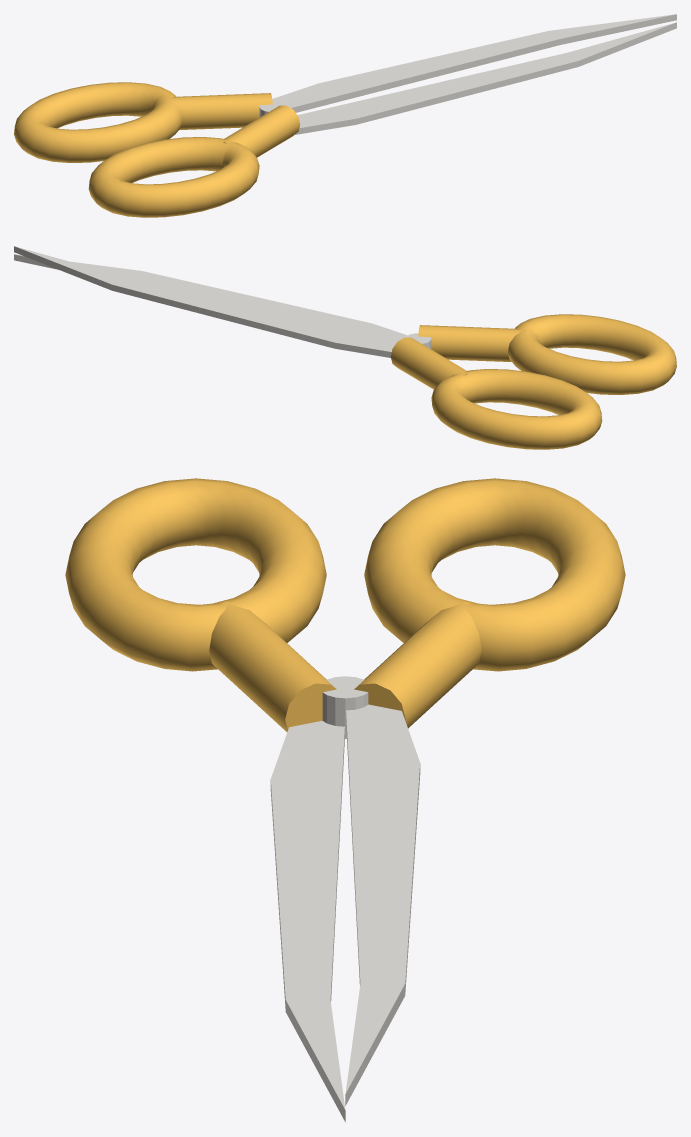
File: scissors.glb
3 renders of one model, top to bottom at view 1: azimuth 30°, elevation 25°; view 2: azimuth 150°, elevation 25°; view 3: azimuth 270°, elevation 25°, orthographic. The views are drawn at different scales.
Visible parts, largest first — view 1: ScissorUpper, ScissorLower; view 2: ScissorUpper, ScissorLower; view 3: ScissorLower, ScissorUpper, pivot.
Boxes of the visible parts, x1,y1,x2,y2 form: ScissorUpper: (14, 14, 676, 162); ScissorLower: (88, 22, 676, 217); ScissorUpper: (14, 246, 602, 449); ScissorLower: (14, 254, 676, 394); ScissorLower: (65, 478, 345, 1122); ScissorUpper: (345, 478, 625, 1105); pivot: (322, 676, 368, 738).
Bounding box in the file's own units: 1.92 × 0.09 × 0.75.
